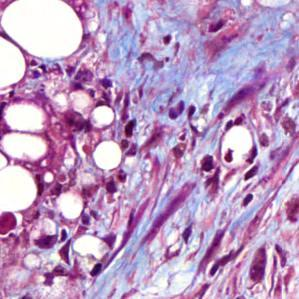steatosis: (90, 140, 122, 173)
